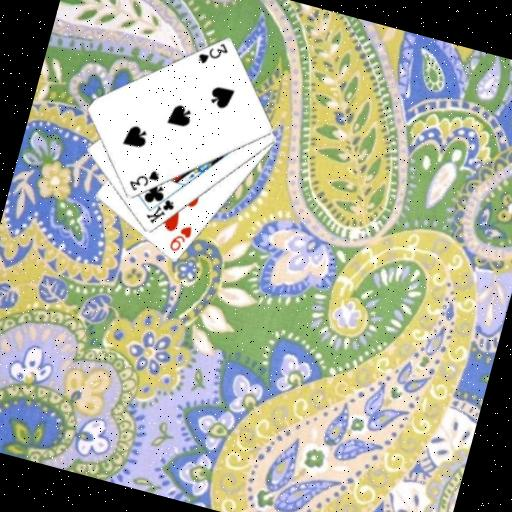3S: (124, 162, 162, 198), (193, 35, 231, 71)
9H: (165, 219, 195, 256)
KC: (141, 186, 179, 230)
